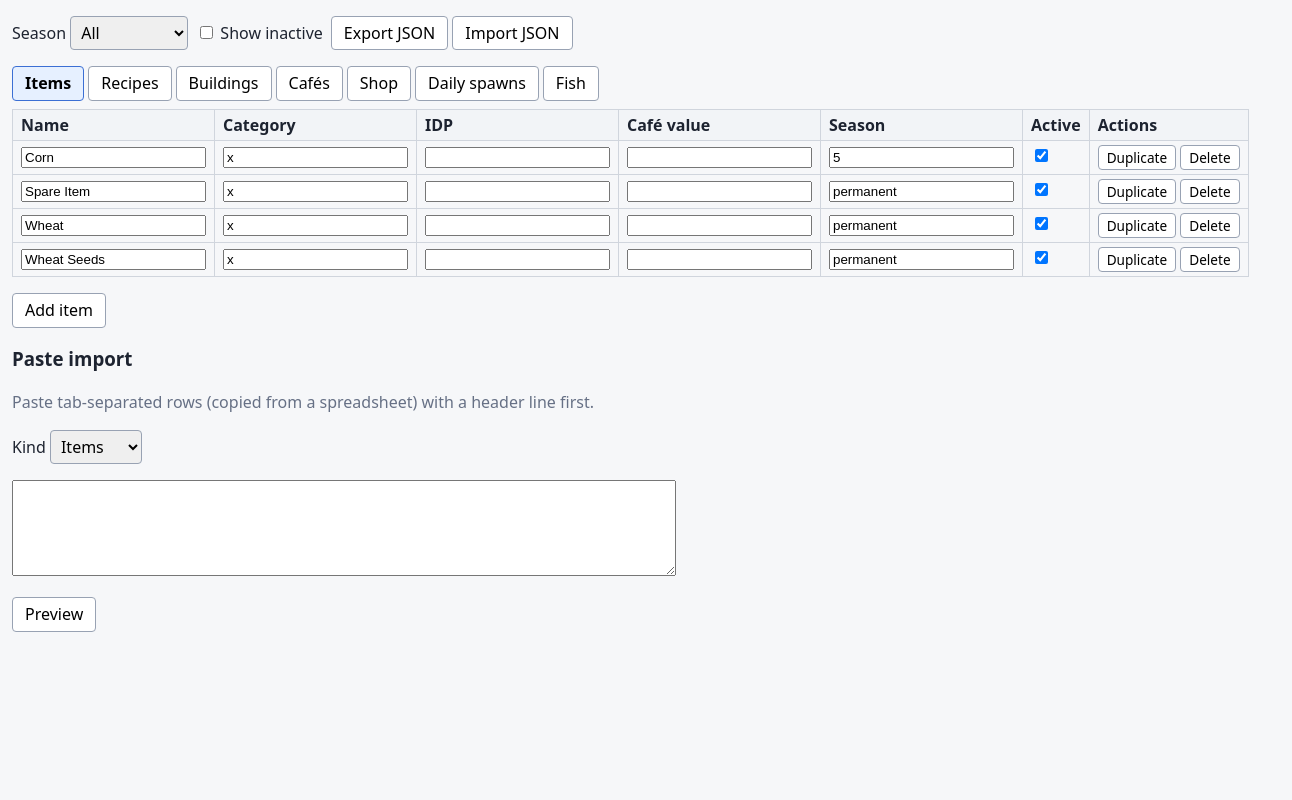
Test: DataTab › editing max runs to 10 updates "to fill the job" to 90
Click the tab "Recipes" at (130,84), box x1=88 y1=66 x2=172 y2=101
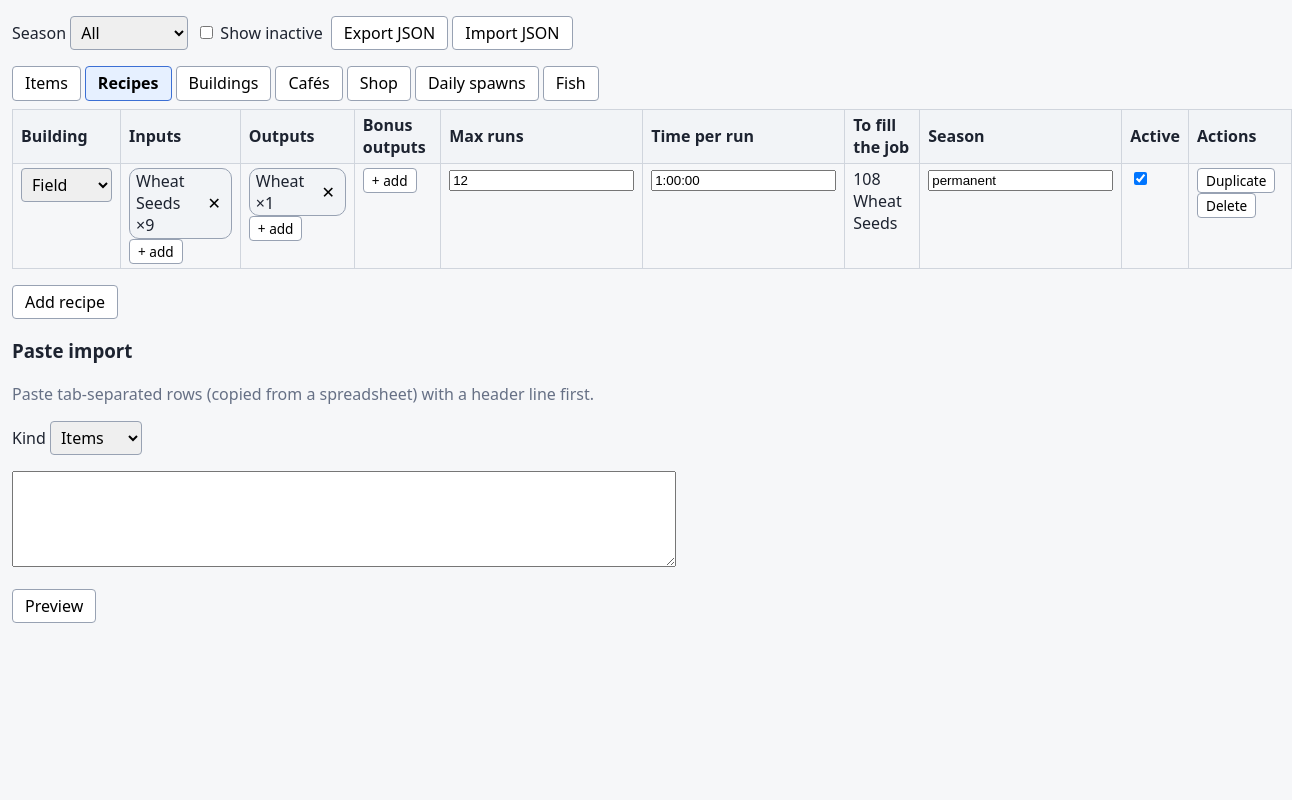
Result: the text with test id "fill-wheat" reads "108 Wheat Seeds" at x1=853 y1=168 x2=902 y2=234
Replace the text in the field named "Max runs Wheat @ Field" with "10" at (542,180), box x1=449 y1=170 x2=634 y2=191
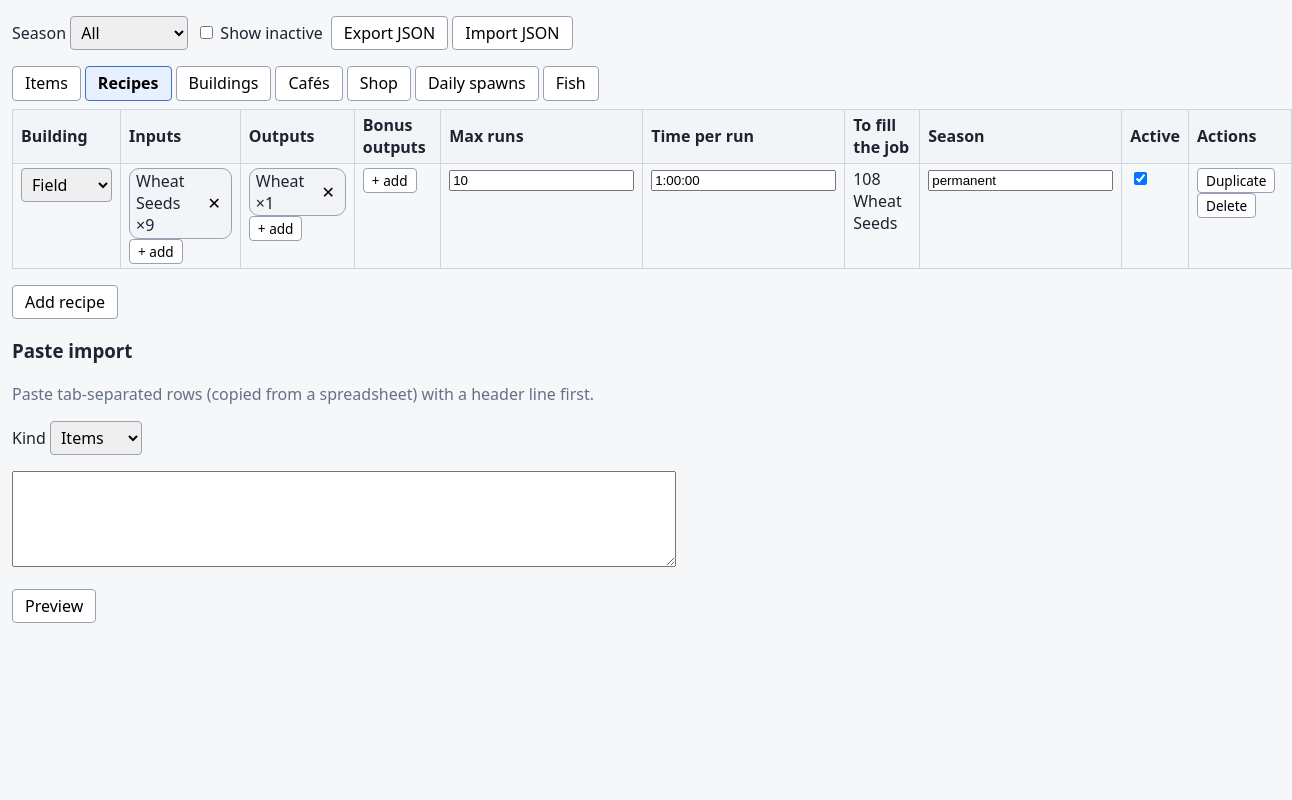
Leave the field named "Max runs Wheat @ Field", box x1=449 y1=170 x2=634 y2=191
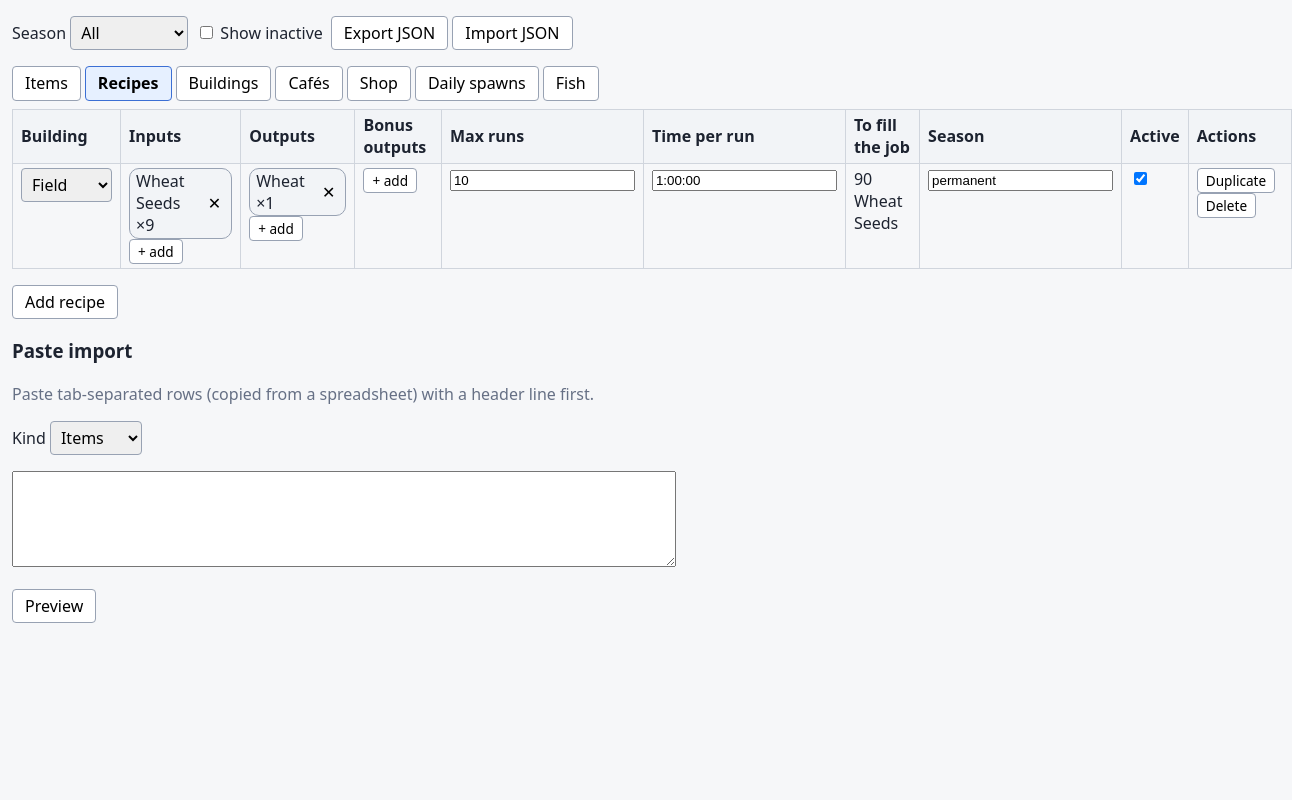
Result: the text with test id "fill-wheat" reads "90 Wheat Seeds" at x1=854 y1=168 x2=902 y2=234
